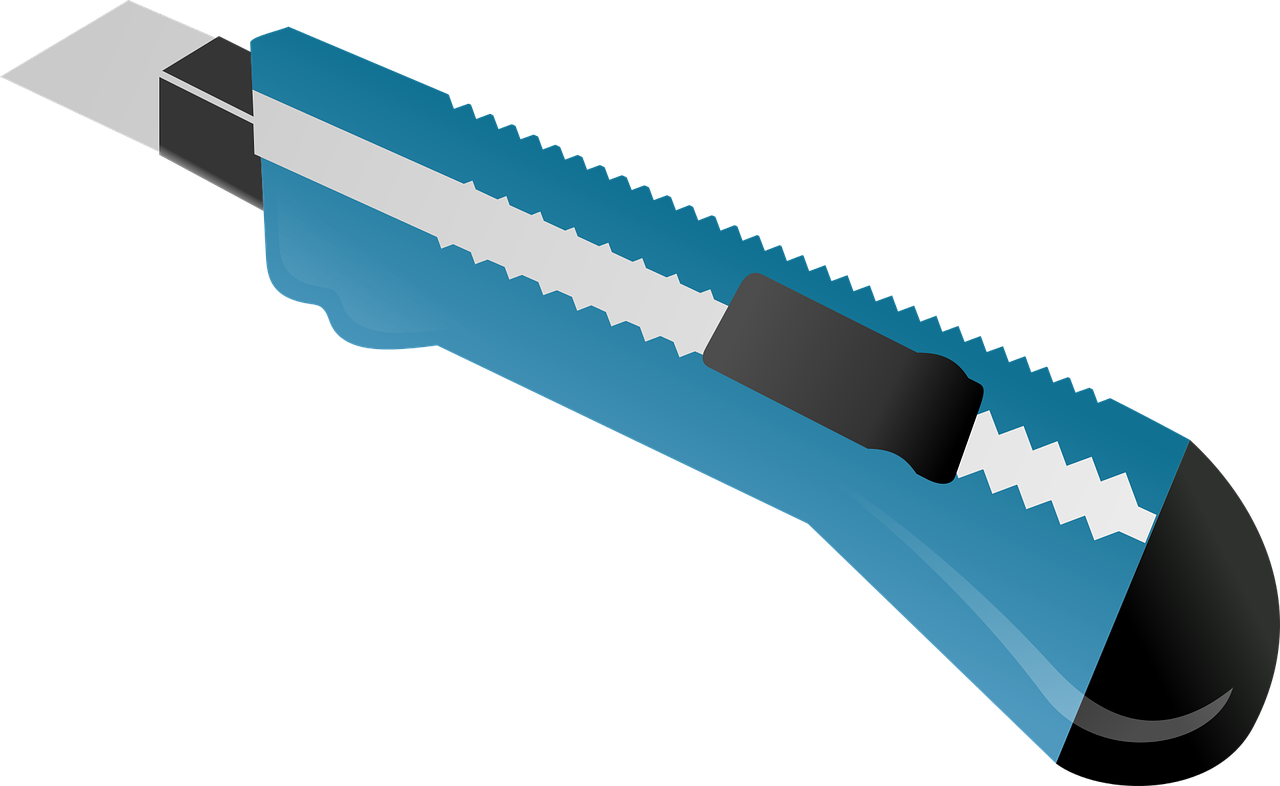knife: (0, 0, 1280, 784)
